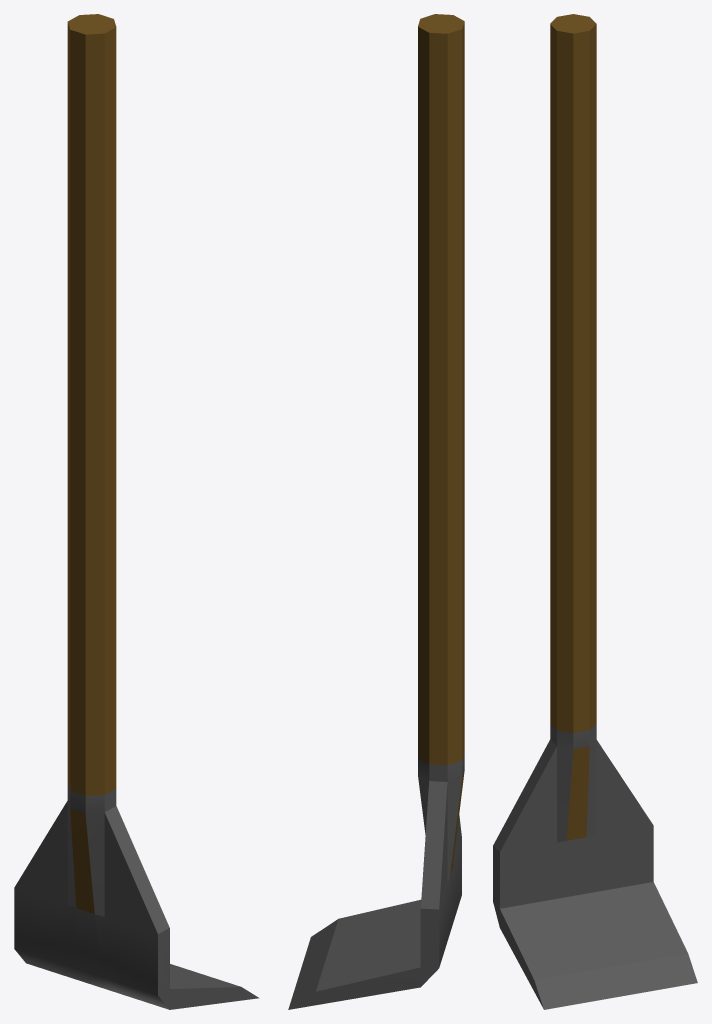
The model's file is Hoe.fbx.
The picture shows the model from 3 angles, left to right: view 1: azimuth 30°, elevation 25°; view 2: azimuth 150°, elevation 25°; view 3: azimuth 270°, elevation 25°; orthographic projection. The views are drawn at different scales.
Parts seen in each view (by area): view 1: pCylinder1; view 2: pCylinder1; view 3: pCylinder1.
Part boxes in pixels (x1,y1,x2,y2): pCylinder1: [14, 14, 259, 1009]; pCylinder1: [288, 14, 464, 1009]; pCylinder1: [493, 14, 697, 1009].
Size of the model in its own units: 27.65 by 139 by 28.18.
